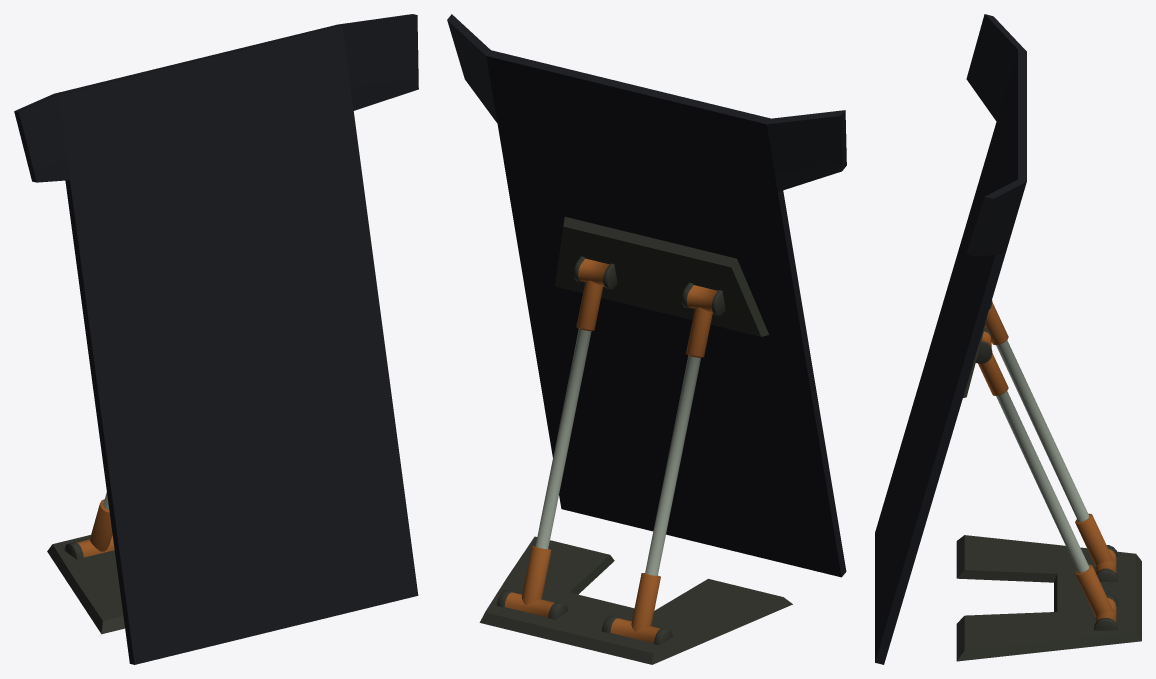
File: regular_wall.fbx
The picture shows the model from 3 angles, left to right: view 1: azimuth 30°, elevation 25°; view 2: azimuth 150°, elevation 25°; view 3: azimuth 270°, elevation 25°; orthographic projection. The views are drawn at different scales.
Visible parts, largest first — view 1: Regular_wall; view 2: Regular_wall; view 3: Regular_wall.
Part boxes in pixels (x1,y1,x2,y2): Regular_wall: [14, 14, 418, 664]; Regular_wall: [447, 14, 846, 664]; Regular_wall: [875, 14, 1141, 664].
Size of the model in its own units: 970 by 1228 by 599.
